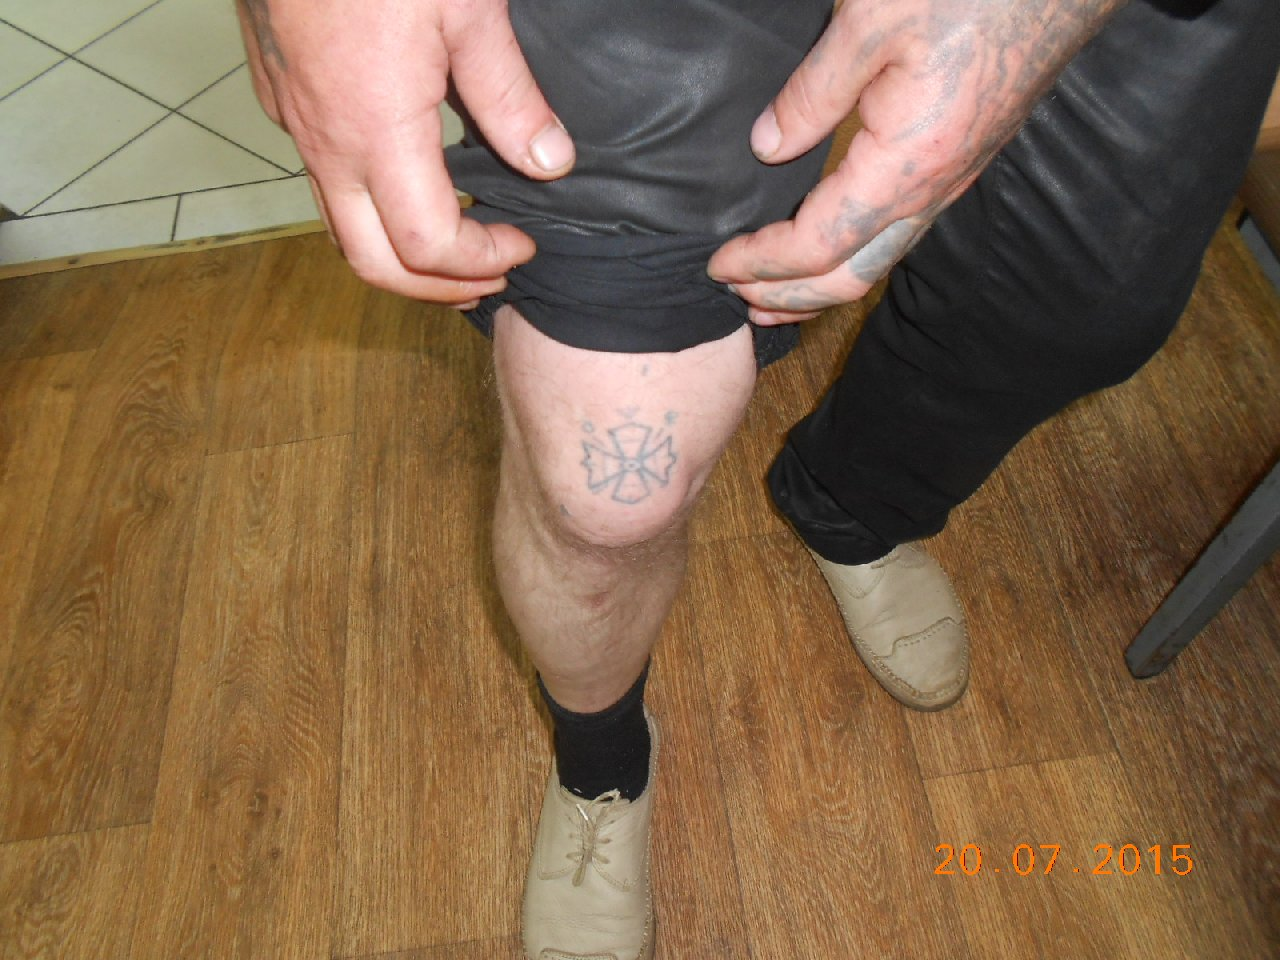tatu9_krest: (572, 409, 690, 506)
